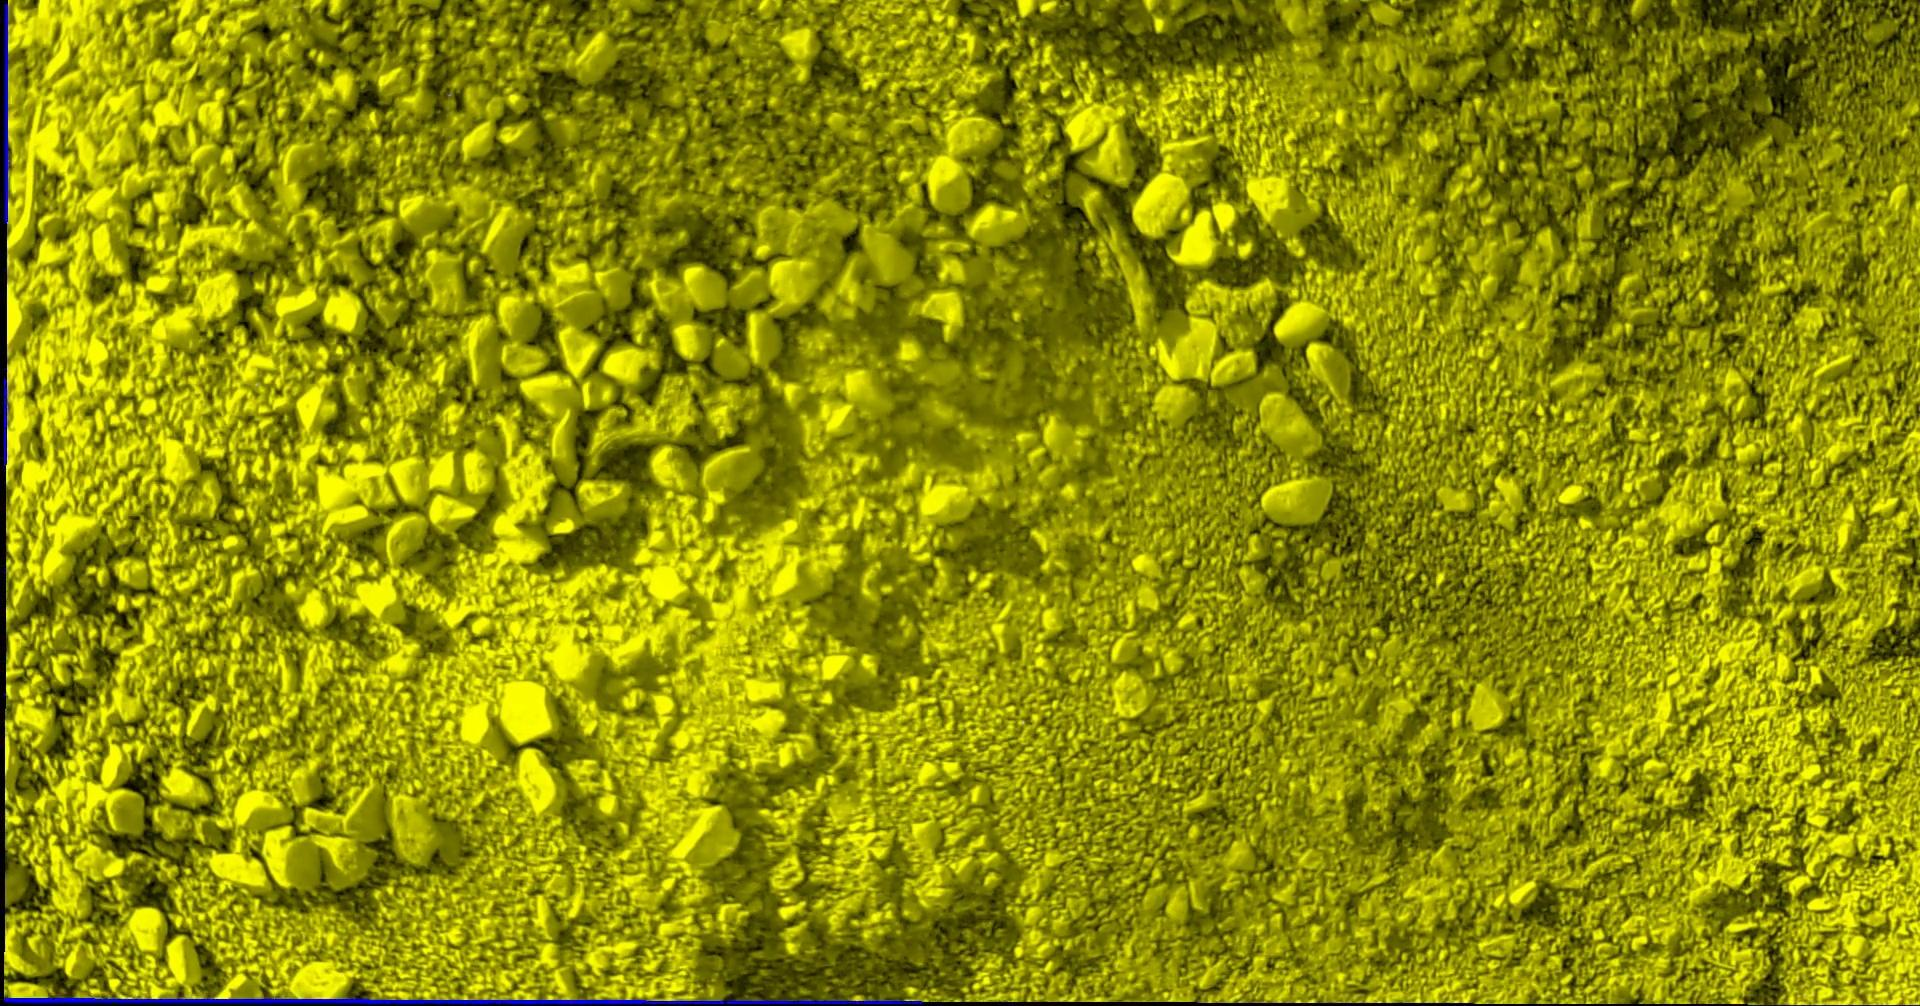ant: (3, 3, 9, 224), (3, 376, 6, 471)
